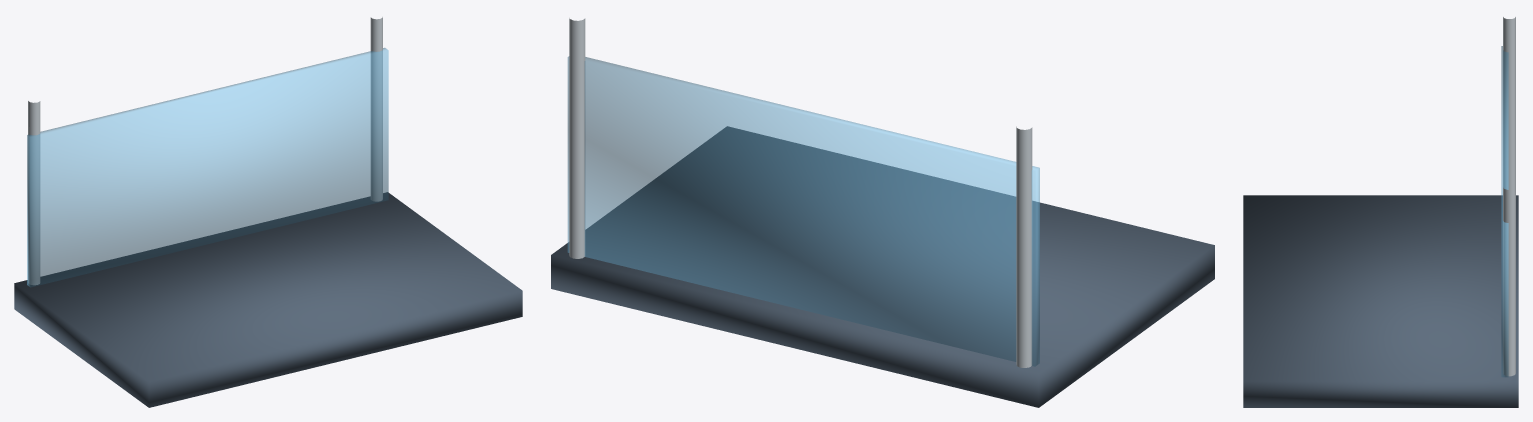
File: 15_L87_HabitatObservationDeck.glb
The picture shows the model from 3 angles, left to right: view 1: azimuth 30°, elevation 25°; view 2: azimuth 150°, elevation 25°; view 3: azimuth 270°, elevation 25°; orthographic projection. The views are drawn at different scales.
Parts seen in each view (by area): view 1: L87_HabitatObservationDeck; view 2: L87_HabitatObservationDeck; view 3: L87_HabitatObservationDeck.
Boxes of the visible parts, bbox=[...] form: L87_HabitatObservationDeck: bbox=[14, 17, 522, 407]; L87_HabitatObservationDeck: bbox=[551, 18, 1214, 407]; L87_HabitatObservationDeck: bbox=[1243, 17, 1518, 407].
Size of the model in its own units: 4.8 by 2.76 by 3.
